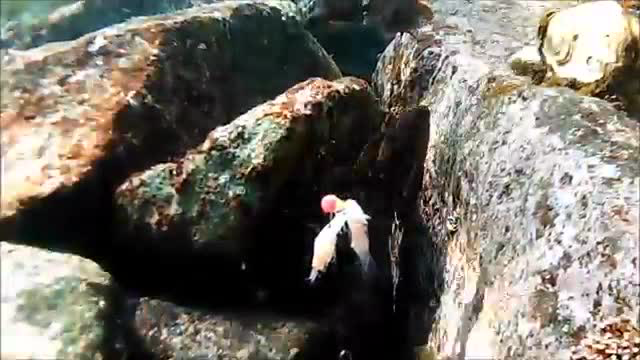mebaru: (348, 104, 443, 198)
